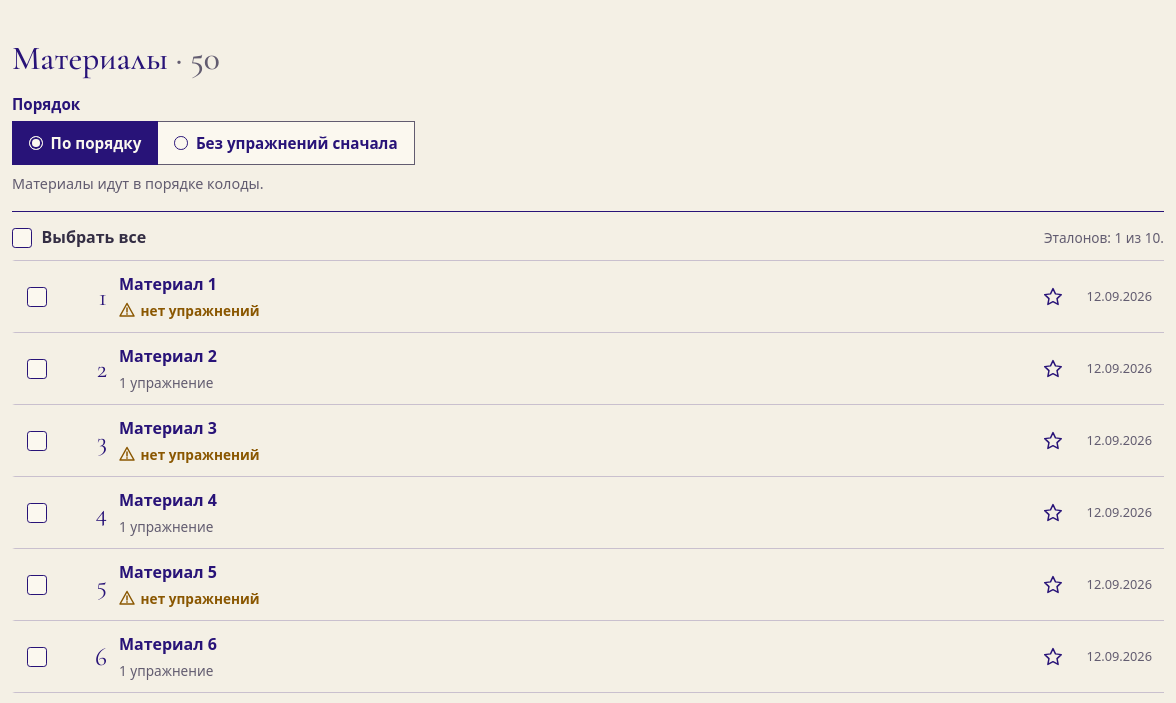
Test: DeckMaterialsComponent › «Эталон» › learns the limit from the server (422), explains it and blocks further stars
Click the 2nd button with class "star": x=1053, y=368 [1031,346,1075,390]
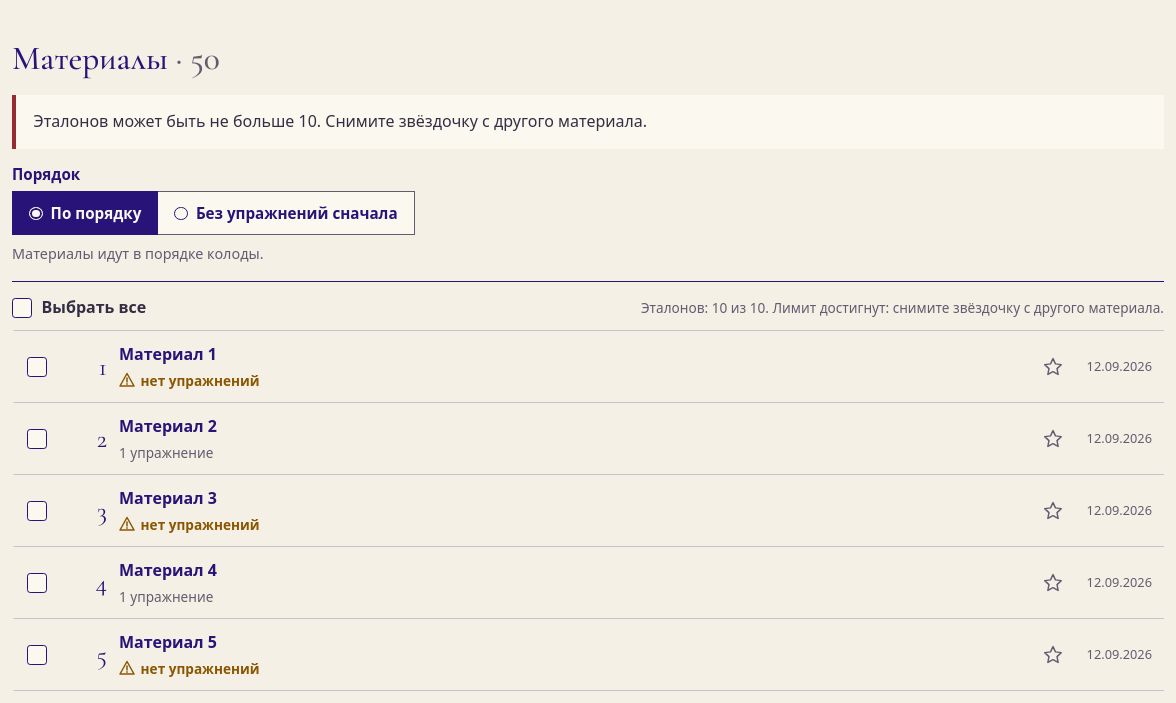
Result: the message with class "error" shows "не больше 10" at [34,110,647,132]
Result: the text with class "budget" shows "Эталонов: 10 из 10" at [641,298,772,317]
